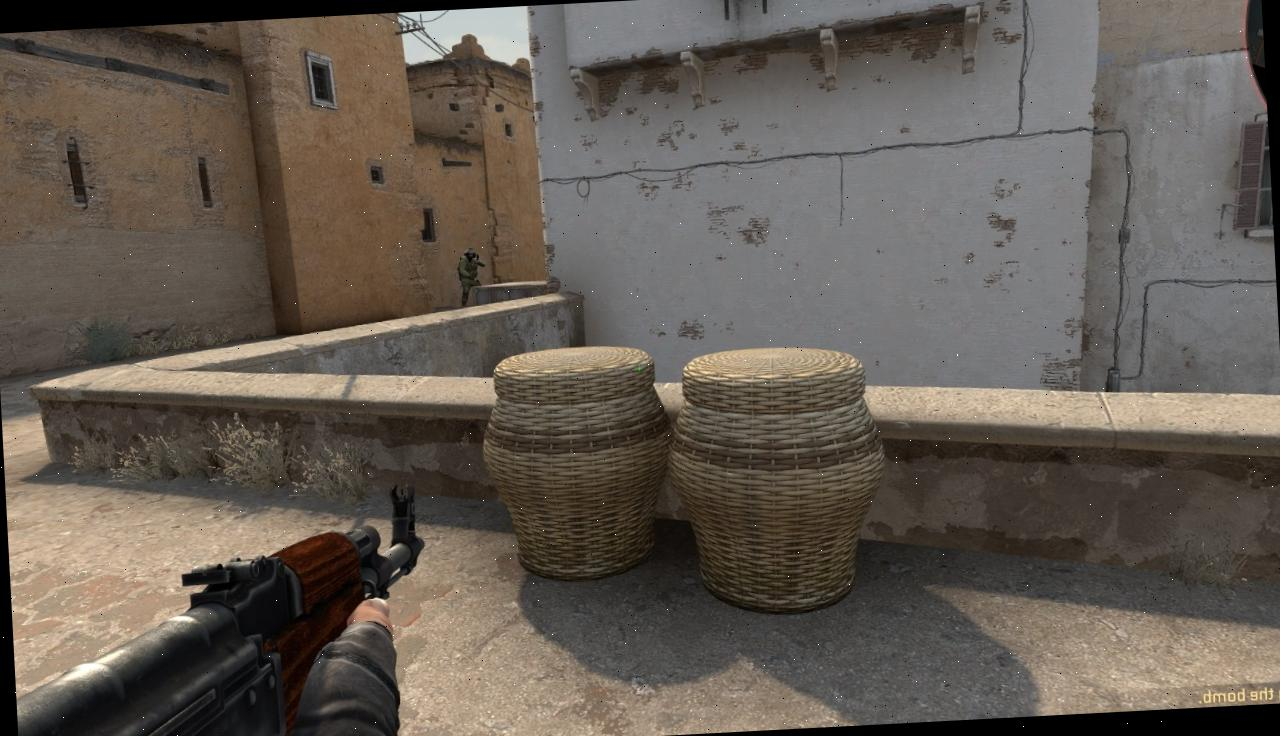ct: (458, 248, 482, 306)
cthead: (466, 248, 476, 260)
rifle: (6, 483, 430, 736)
